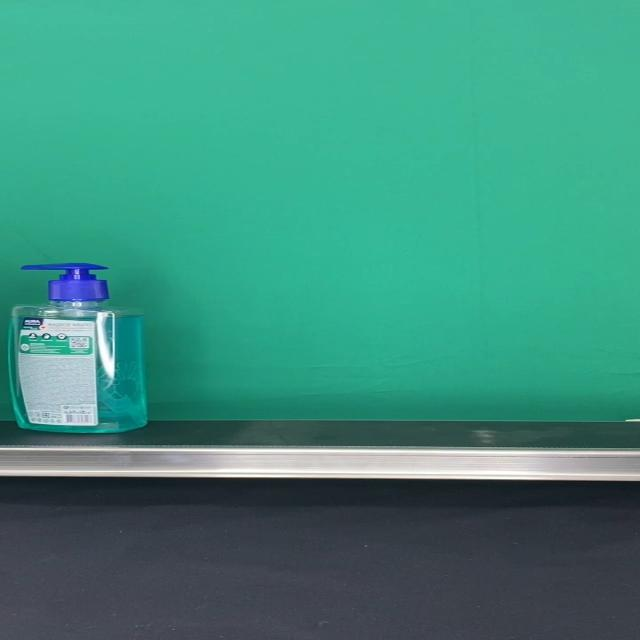Bottle: (11, 264, 147, 432)
Cap: (24, 264, 115, 302)
